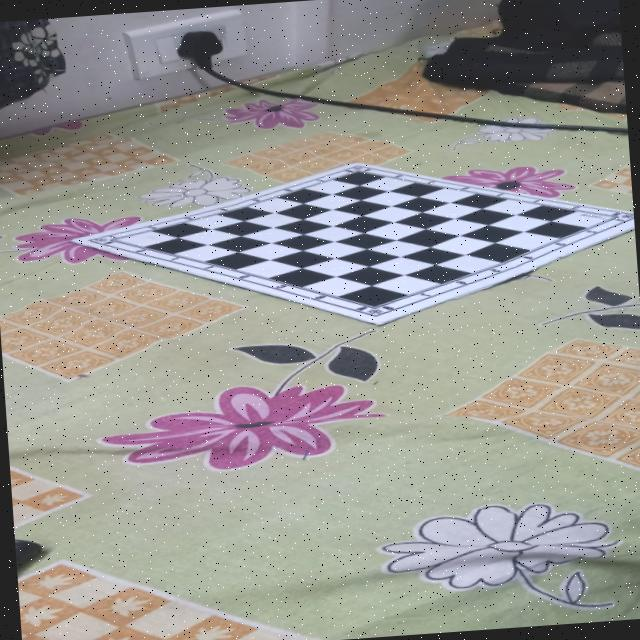corners: (370, 318, 390, 329), (63, 235, 85, 245), (346, 158, 364, 166)
